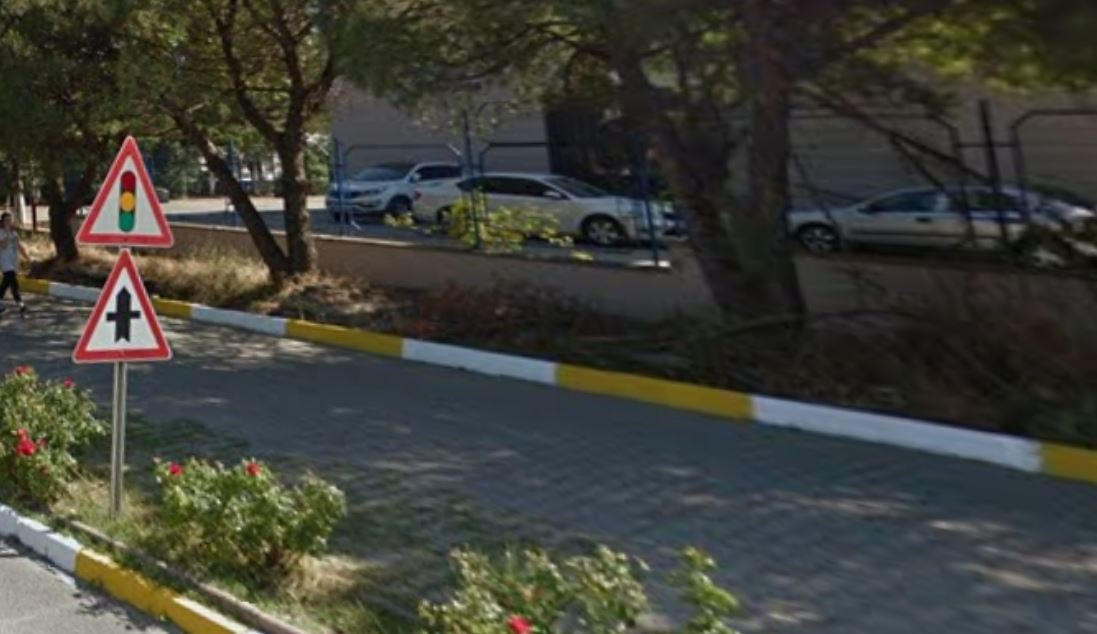Ana Yol Tali Yol: (77, 242, 178, 359)
Trafikisiklari: (67, 135, 178, 243)
